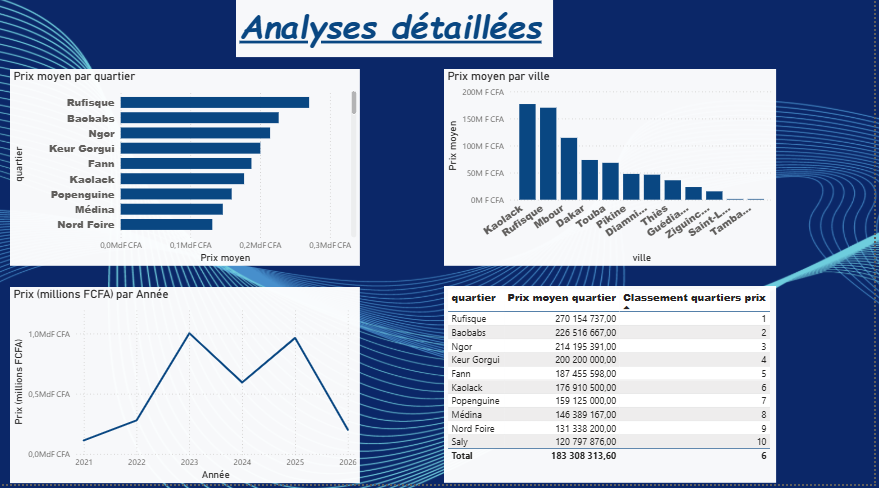

Layout of this report page (visuals, bound fields, positions):
{"tool":"powerbi","page":{"name":"Analyses prix","canvas":[1280,720],"ordinal":2},"visuals":[{"type":"barChart","fields":{"Category":["statistiques_par_quartier.quartier"],"Y":["expat_dakar_pieces_traite.Prix moyen"]},"box":[14.6,112.7,512.2,288.3],"z":0},{"type":"clusteredColumnChart","fields":{"Category":["statistiques_par_ville.ville"],"Y":["expat_dakar_pieces_traite.Prix moyen ville"]},"box":[649.8,112.7,485.9,288.3],"z":1000},{"type":"lineChart","fields":{"Category":["kpi_evolution_mensuelle.date_publication.Variation.Hiérarchie de dates.Année","kpi_evolution_mensuelle.date_publication.Variation.Hiérarchie de dates.Trimestre","kpi_evolution_mensuelle.date_publication.Variation.Hiérarchie de dates.Mois","kpi_evolution_mensuelle.date_publication.Variation.Hiérarchie de dates.Jour"],"Y":["Sum(kpi_evolution_mensuelle.prix_moyen)"]},"box":[15.1,431.7,512.3,287.2],"z":2000},{"type":"tableEx","fields":{"Values":["statistiques_par_quartier.quartier","expat_dakar_pieces_traite.Prix moyen quartier","expat_dakar_pieces_traite.Classement quartiers prix"]},"box":[649.8,430.2,485.9,288.3],"z":3000},{"type":"textbox","box":[345.4,10.2,463.9,84.9],"z":3001}]}

Visuals, with their boxes in screenshot pixels (x1, y1, x2, y2), scaled from the page's 1280x720 canvas onto the 879x488 screenshot:
barChart - statistiques_par_quartier.quartier x expat_dakar_pieces_traite.Prix moyen: x1=10, y1=76, x2=362, y2=272
clusteredColumnChart - statistiques_par_ville.ville x expat_dakar_pieces_traite.Prix moyen ville: x1=446, y1=76, x2=780, y2=272
lineChart - kpi_evolution_mensuelle.date_publication.Variation.Hiérarchie de dates.Année x kpi_evolution_mensuelle.date_publication.Variation.Hiérarchie de dates.Trimestre: x1=10, y1=293, x2=362, y2=487
tableEx - statistiques_par_quartier.quartier x expat_dakar_pieces_traite.Prix moyen quartier: x1=446, y1=292, x2=780, y2=487
textbox: x1=237, y1=7, x2=556, y2=64
